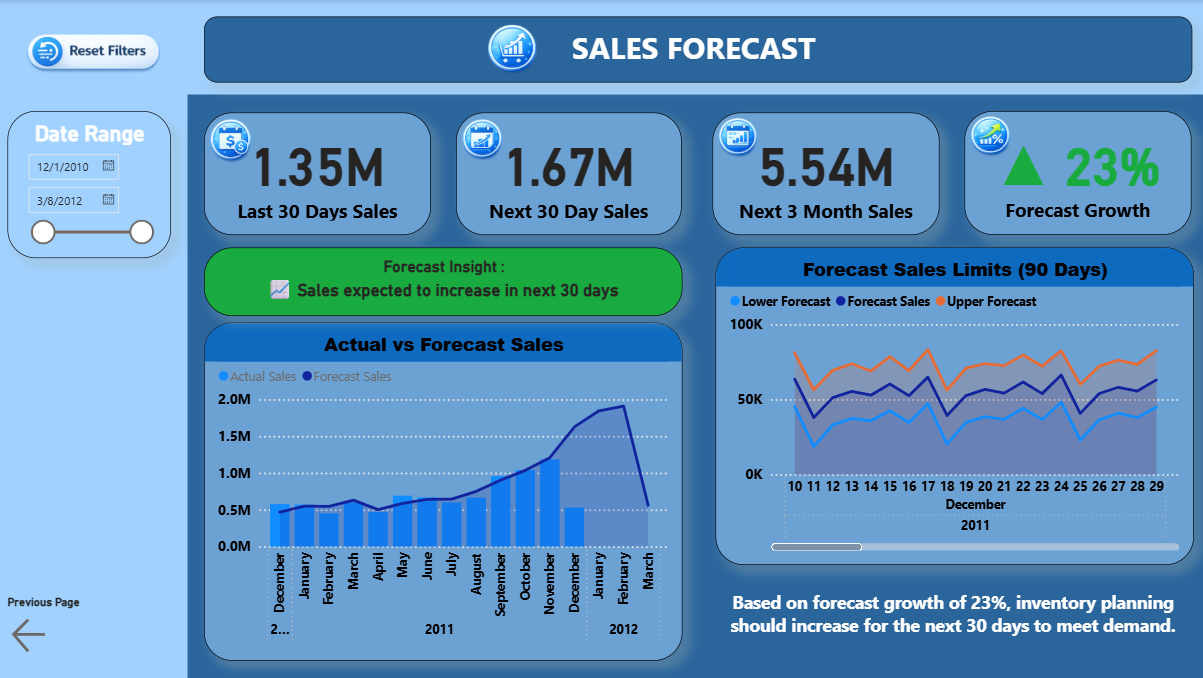

What the dashboard file says about the page in this screenshot:
{"tool":"powerbi","page":{"name":"Sales Forecast","canvas":[1280,720],"ordinal":4},"visuals":[{"type":"shape","box":[202,100.2,1078.4,620.3],"z":1000},{"type":"lineStackedColumnComboChart","title":"Actual vs Forecast Sales","fields":{"Y":["sales_forecast.Actual Sales"],"Category":["DateTable.Date.Variation.Date Hierarchy.Year","DateTable.Date.Variation.Date Hierarchy.Month"],"Y2":["sales_forecast.Forecast Sales"]},"box":[219,342,507.2,358.9],"z":2000},{"type":"card","fields":{"Values":["clean_sales.Last 30 Days Sales"]},"box":[219,119.6,241,129.7],"z":4000},{"type":"card","fields":{"Values":["sales_forecast.First Forecast Month Sales"]},"box":[487,119.6,239.3,129.7],"z":5000},{"type":"card","fields":{"Values":["sales_forecast.Next 90 Day Sales"]},"box":[758.2,119.6,241,129.7],"z":6000},{"type":"card","fields":{"Values":["sales_forecast.Forecast Growth Display"]},"box":[1026.1,117.9,241,131.4],"z":7000},{"type":"textbox","box":[219.5,17.5,1048.2,70],"z":8000},{"type":"image","box":[219.5,108.2,50.9,77.9],"z":9000},{"type":"image","box":[1024.4,103.4,52.5,79.5],"z":10000},{"type":"image","box":[0,0,202,119.3],"z":11000},{"type":"image","box":[512.2,22.3,68.4,58.9],"z":12000},{"type":"slicer","title":"Date Range","fields":{"Values":["DateTable.Date"]},"box":[11.1,117.7,173.4,155.9],"z":13000},{"type":"image","box":[757.1,103.4,52.5,82.7],"z":14000},{"type":"lineStackedColumnComboChart","title":"Forecast Sales Limits (90 Days)","fields":{"Y2":["sales_forecast.Lower Forecast","sales_forecast.Forecast Sales","sales_forecast.Upper Forecast"],"Category":["DateTable.Date.Variation.Date Hierarchy.Year","DateTable.Date.Variation.Date Hierarchy.Month","DateTable.Date.Variation.Date Hierarchy.Day"]},"box":[761.6,262.9,507.2,337],"z":15000},{"type":"card","title":"Forecast Insight :","fields":{"Values":["sales_forecast.Forecast Insight"]},"box":[219,262.9,507.2,72.5],"z":16000},{"type":"textbox","box":[759.9,620.1,507.2,80.9],"z":17000},{"type":"image","box":[485.1,103.4,52.5,84.3],"z":18000},{"type":"actionButton","title":"Previous Page","box":[11.1,631.5,105,65.2],"z":19000}]}

Visuals, with their boxes in screenshot pixels (x1, y1, x2, y2), scaled from the page's 1280x720 canvas onto the 1203x678 screenshot:
shape: l=190, t=94, r=1202, b=677
"Actual vs Forecast Sales" lineStackedColumnComboChart: l=206, t=322, r=683, b=660
card - clean_sales.Last 30 Days Sales: l=206, t=113, r=432, b=235
card - sales_forecast.First Forecast Month Sales: l=458, t=113, r=683, b=235
card - sales_forecast.Next 90 Day Sales: l=713, t=113, r=939, b=235
card - sales_forecast.Forecast Growth Display: l=964, t=111, r=1191, b=235
textbox: l=206, t=16, r=1191, b=82
image: l=206, t=102, r=254, b=175
image: l=963, t=97, r=1012, b=172
image: l=0, t=0, r=190, b=112
image: l=481, t=21, r=546, b=76
"Date Range" slicer: l=10, t=111, r=173, b=258
image: l=712, t=97, r=761, b=175
"Forecast Sales Limits (90 Days)" lineStackedColumnComboChart: l=716, t=248, r=1192, b=565
"Forecast Insight :" card: l=206, t=248, r=683, b=316
textbox: l=714, t=584, r=1191, b=660
image: l=456, t=97, r=505, b=177
"Previous Page" actionButton: l=10, t=595, r=109, b=656
